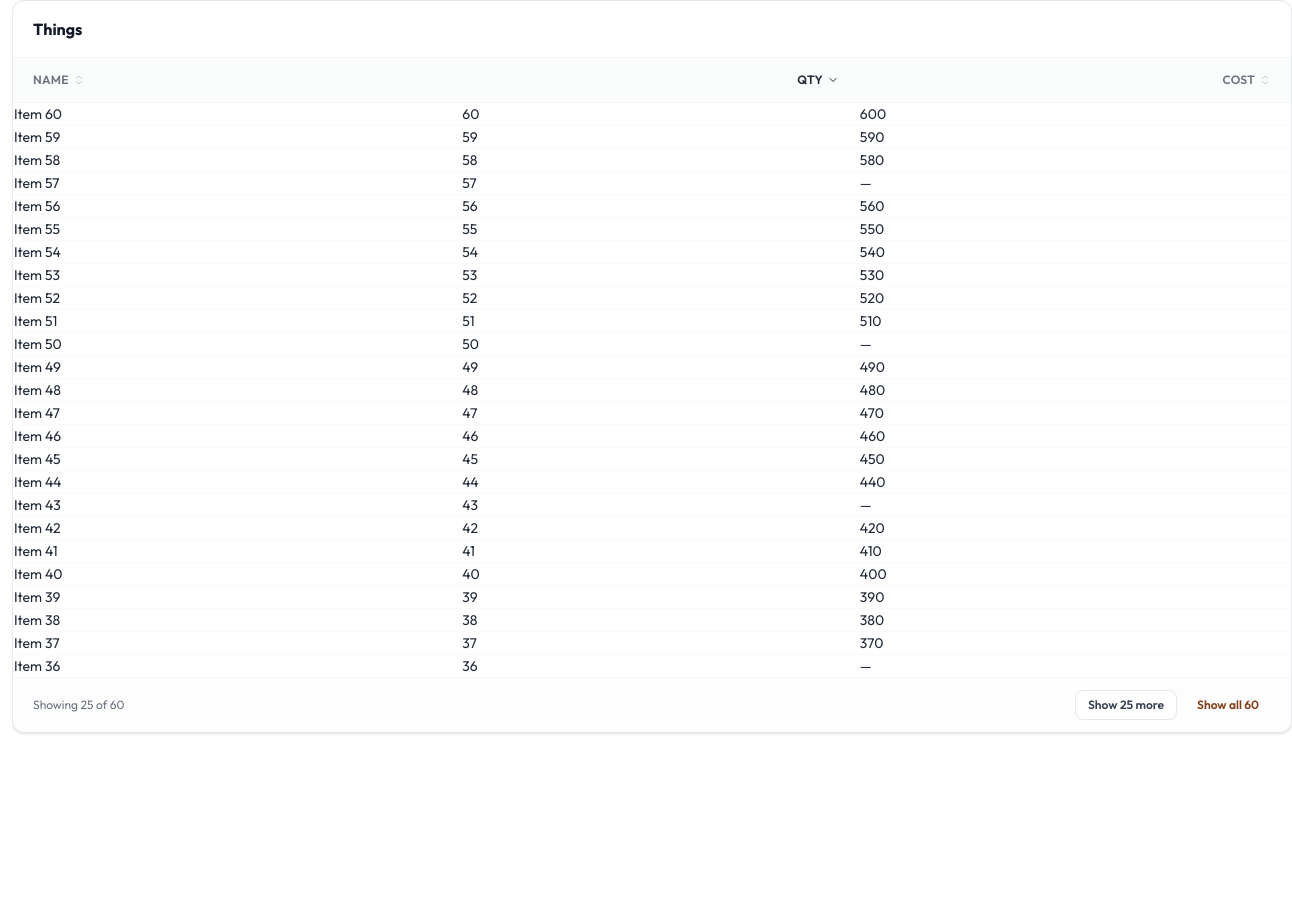
DataTable › sorts by a column, flips on a second click, and marks the column for assistive tech
The image size is (1292, 900).
Click the button "Qty" at (818, 80), box [797, 72, 839, 88]
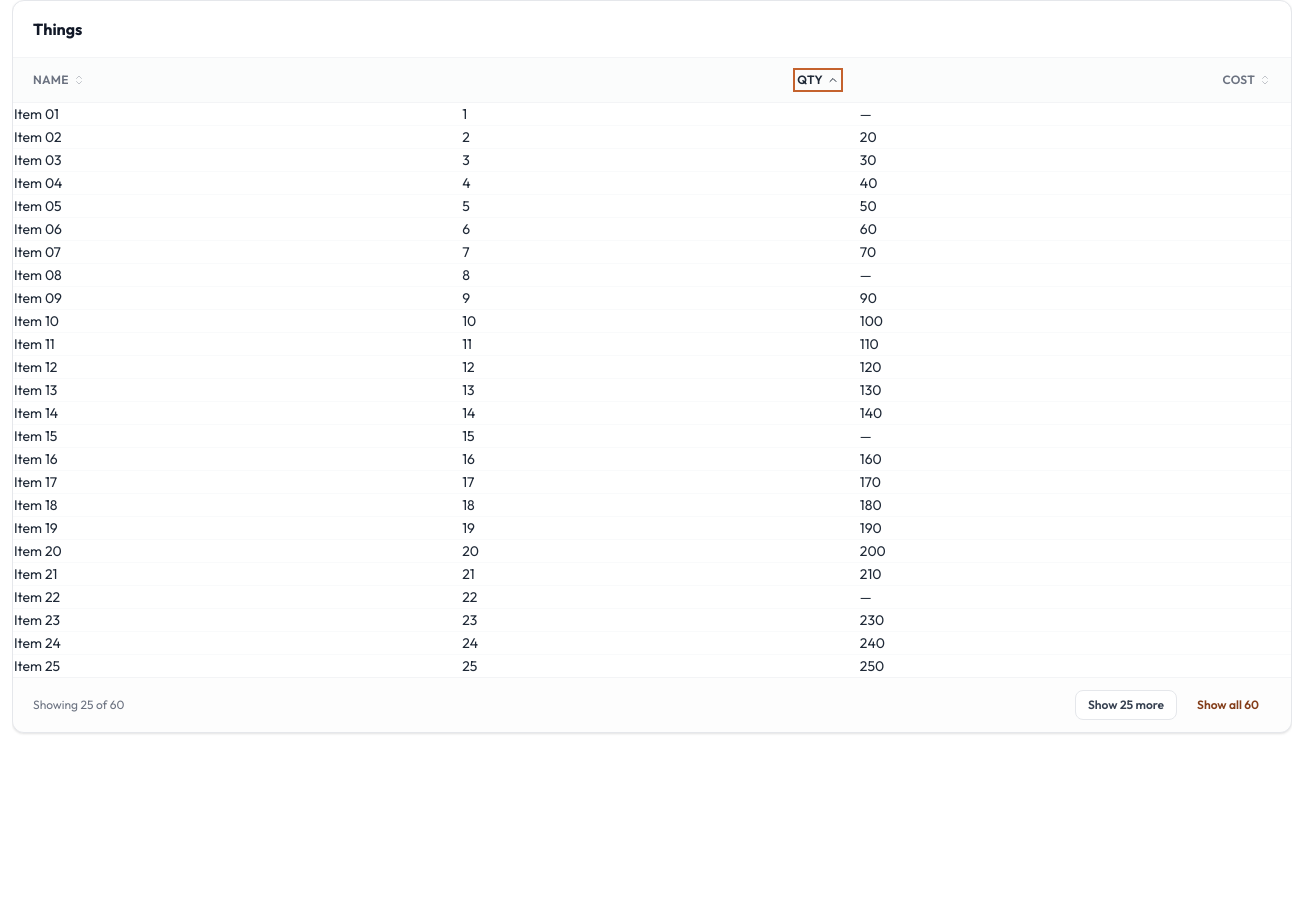
Check: the cell "Item 01" is shown, box [13, 102, 461, 126]
Click the button "Name" at (59, 80), box [33, 72, 85, 88]
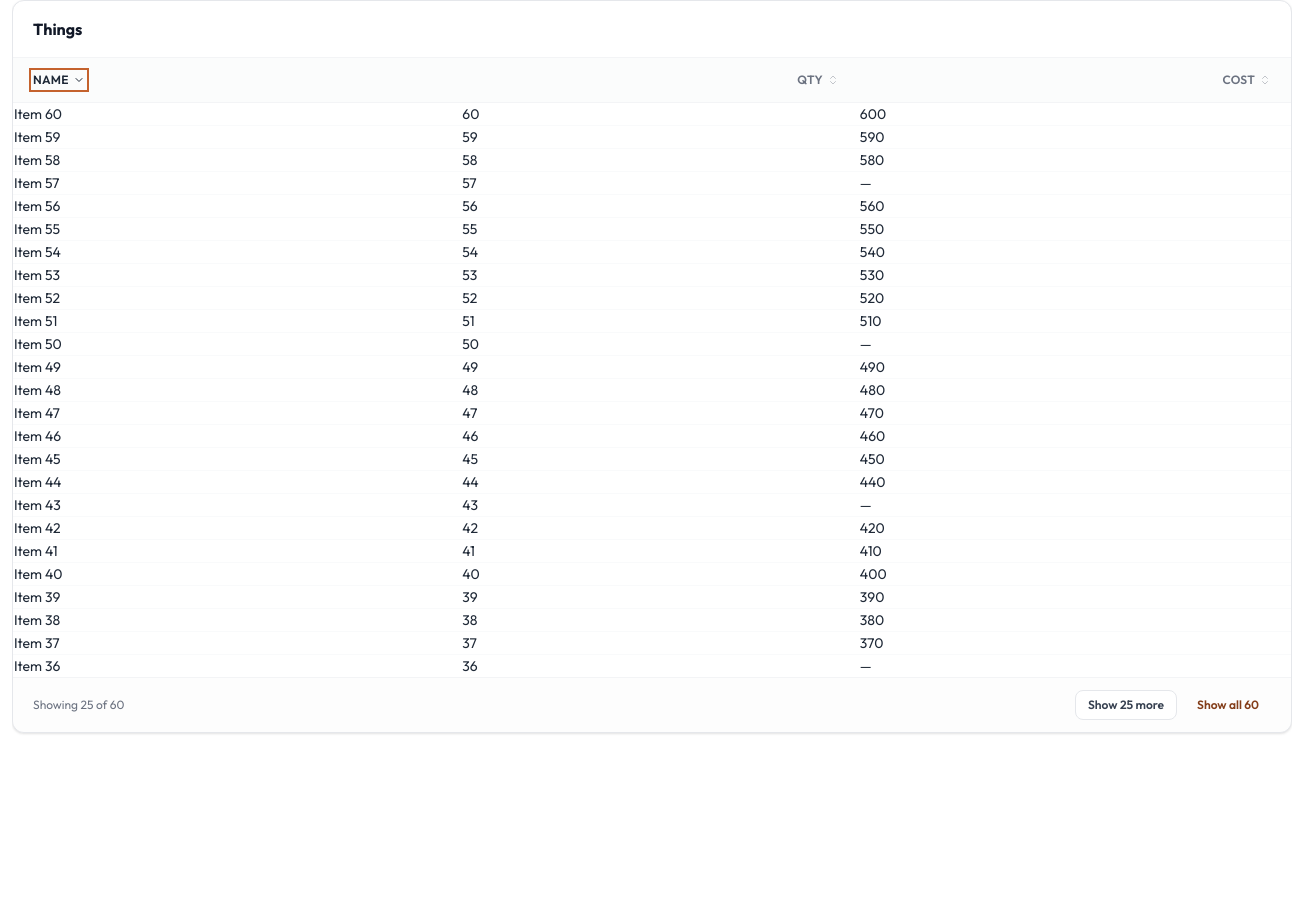
Check: the cell "Item 60" is shown, box [13, 102, 461, 126]
